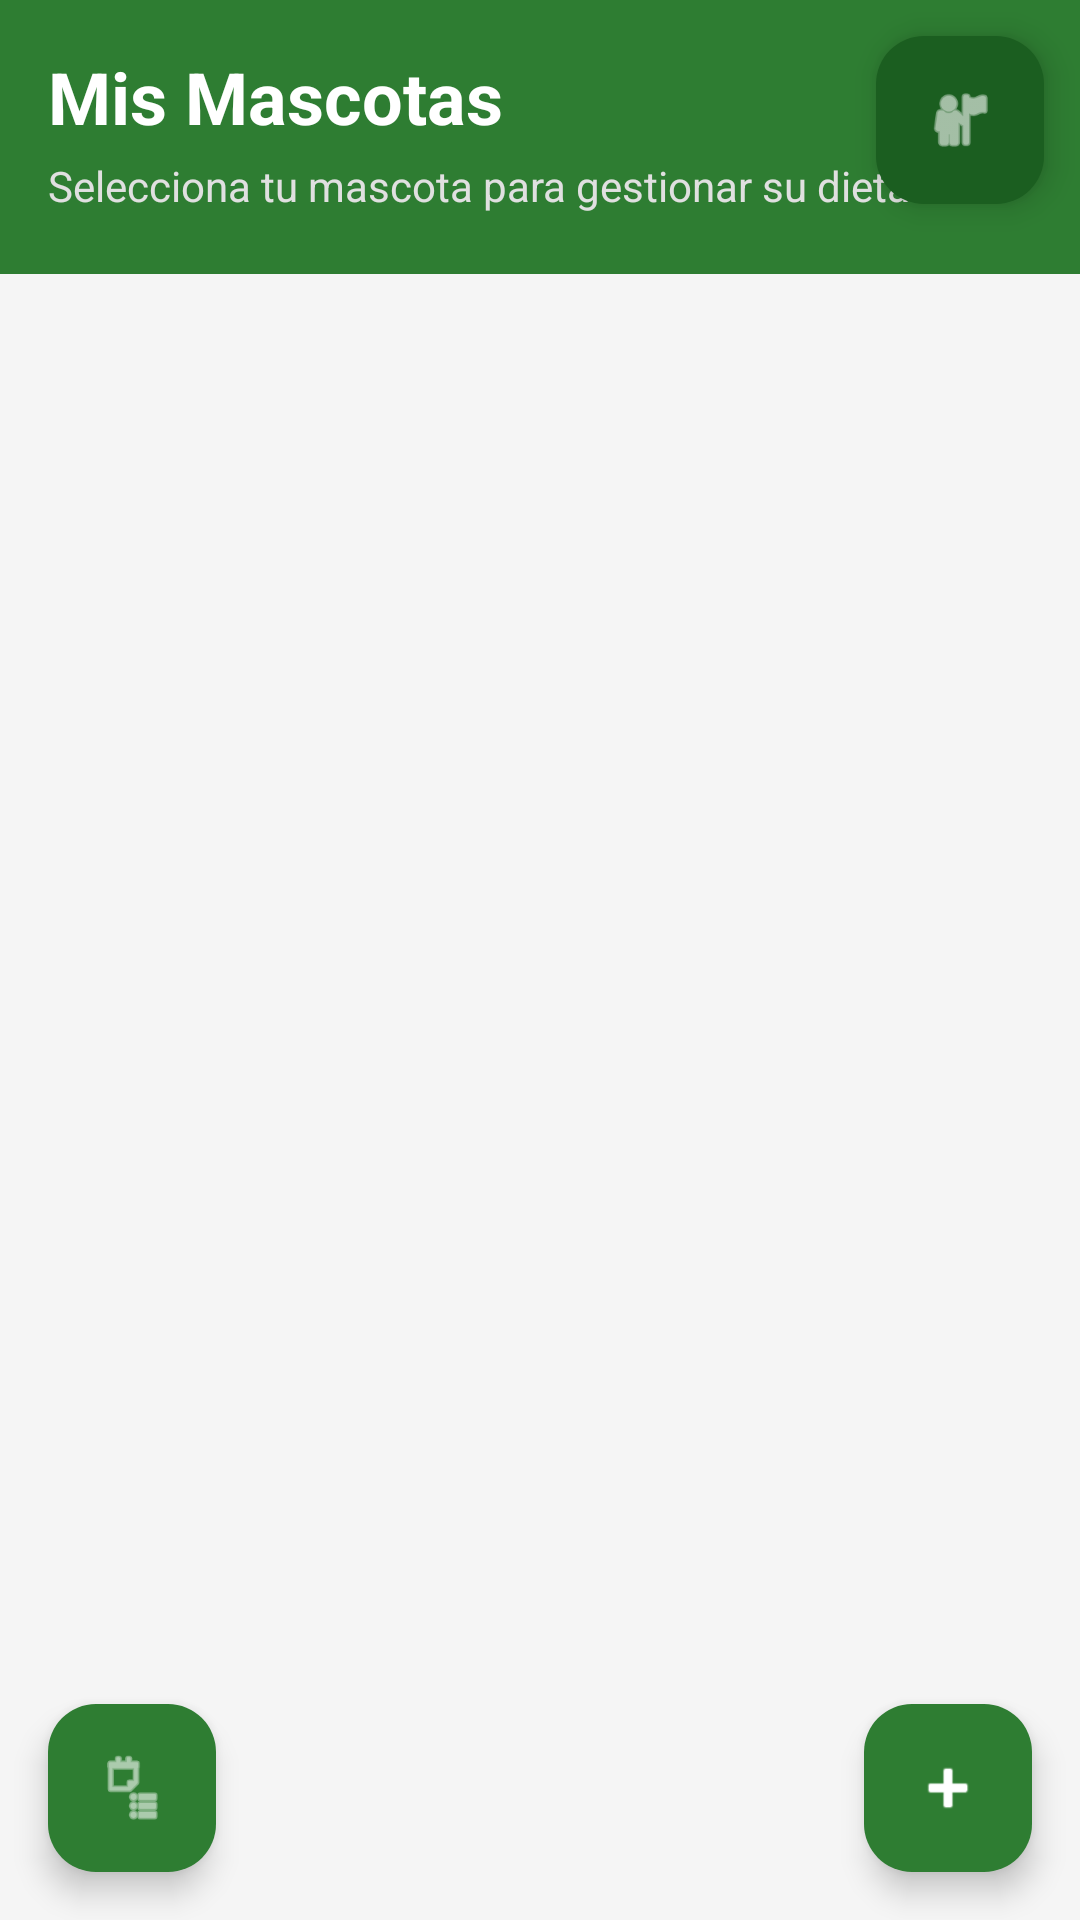

Screen size 1080*1920. Icon name, then its center in pixels as (x,y):
Añadir Mascota: (948,1788)
Calendario de Citas: (132,1788)
Perfil: (960,120)
